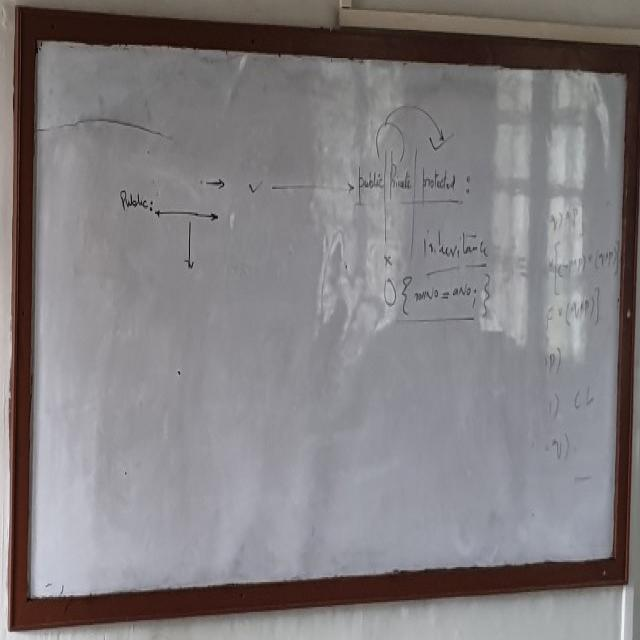White-board: (22, 18, 635, 619)
